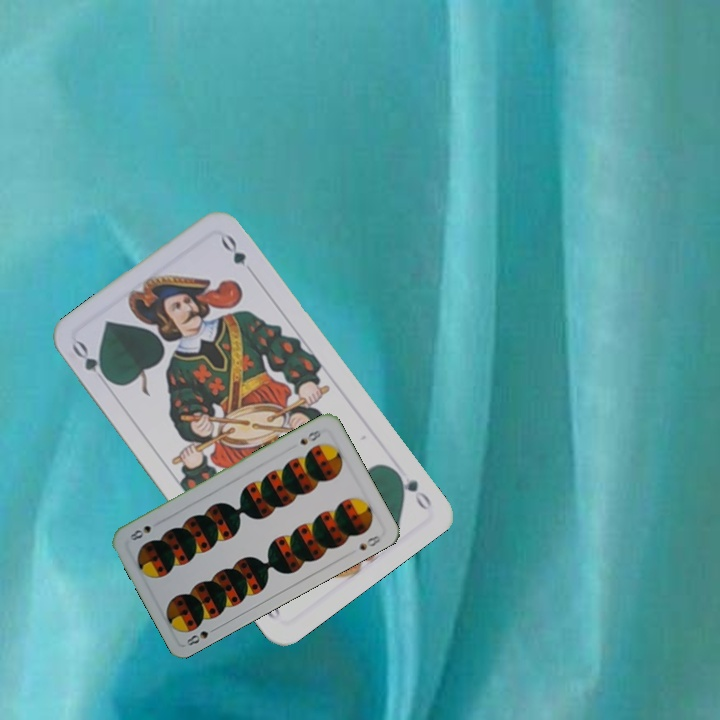GO: (68, 337, 115, 389), (388, 464, 435, 513)
S8: (182, 623, 220, 648), (296, 425, 326, 447)
